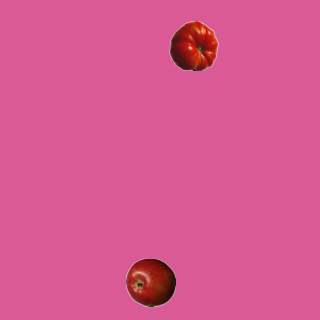Apple Braeburn: (125, 257, 175, 307)
Tomato 3: (168, 20, 218, 70)
